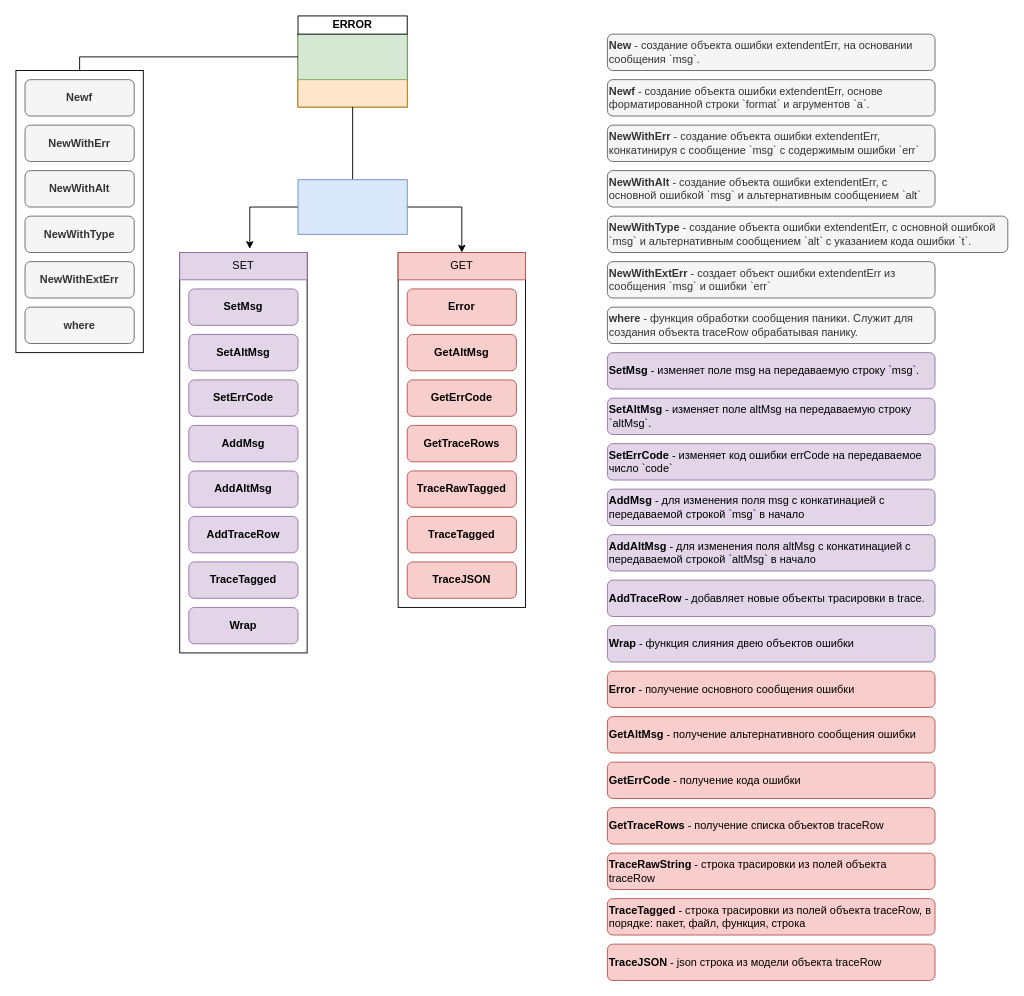
This 1024x996 diagram has some shape labels left out. Here are the shapes that lost their labels. From the top down, the centre of each, then its label:
At (352,56): "extendentErr".
At (352,93): "traceRow".
At (352,206): "ErrExtender".
